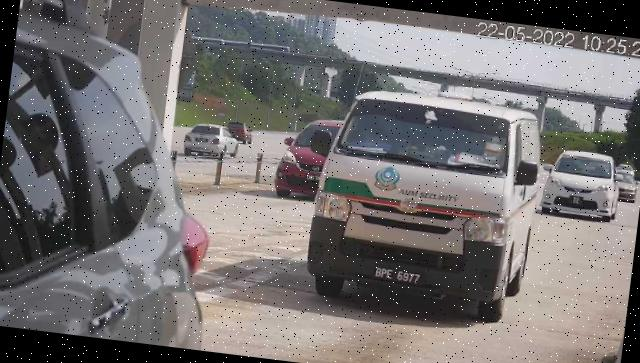License_Plate: (370, 264, 425, 290)
van: (304, 85, 548, 326)
